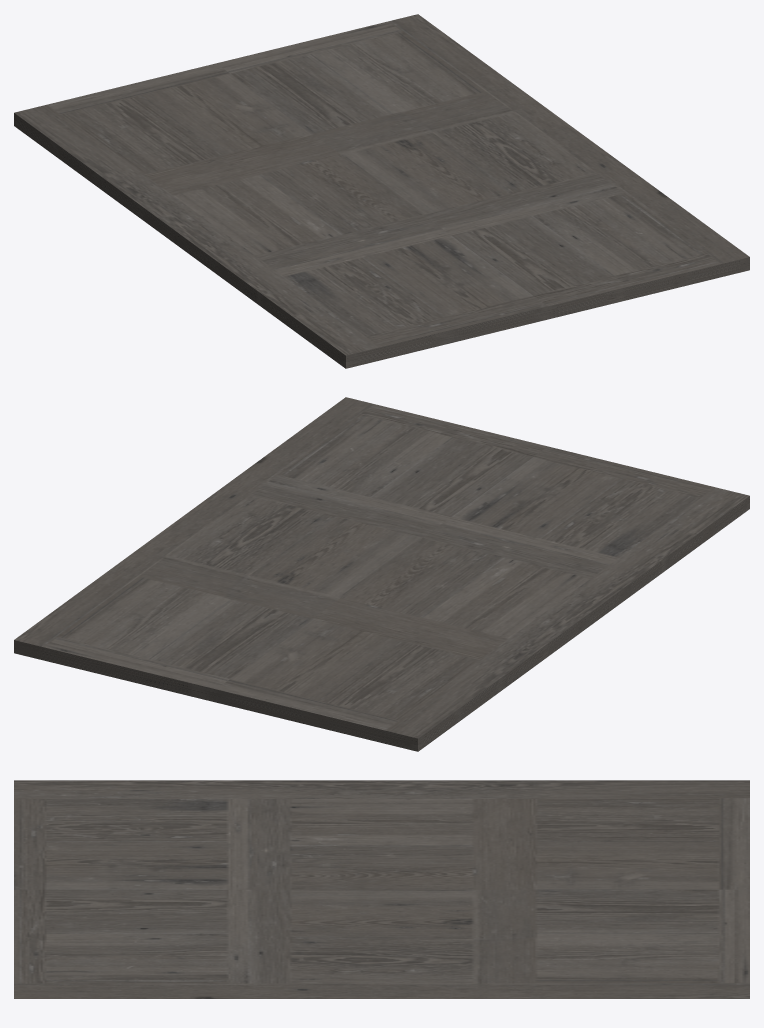
Rendered from SM_Floor03E.fbx.
3 views of the same model, one above another, from view 1: azimuth 30°, elevation 25°; view 2: azimuth 150°, elevation 25°; view 3: azimuth 270°, elevation 25° (orthographic). The views are drawn at different scales.
Visible parts, largest first — view 1: SM_Floor03E; view 2: SM_Floor03E; view 3: SM_Floor03E.
Part boxes in pixels (<box>): SM_Floor03E: <box>14,14,749,368</box>; SM_Floor03E: <box>14,397,749,751</box>; SM_Floor03E: <box>14,780,749,998</box>.
Size of the model in its own units: 173 by 246 by 5.43.
